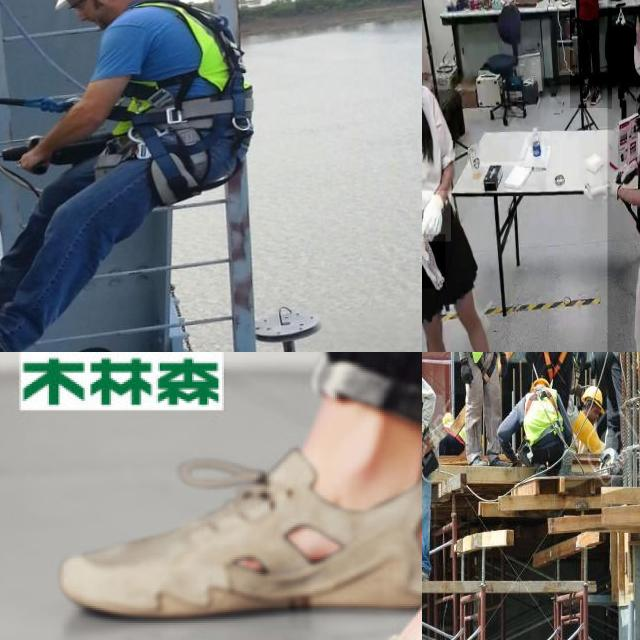Harness: (152, 1, 252, 131)
face_mask: (629, 29, 640, 86)
hand_glove: (422, 190, 450, 241), (422, 234, 445, 289), (588, 170, 622, 205)
person: (422, 6, 510, 352), (607, 0, 640, 352), (570, 0, 612, 108)
shoes: (589, 84, 603, 108), (579, 80, 592, 104)
